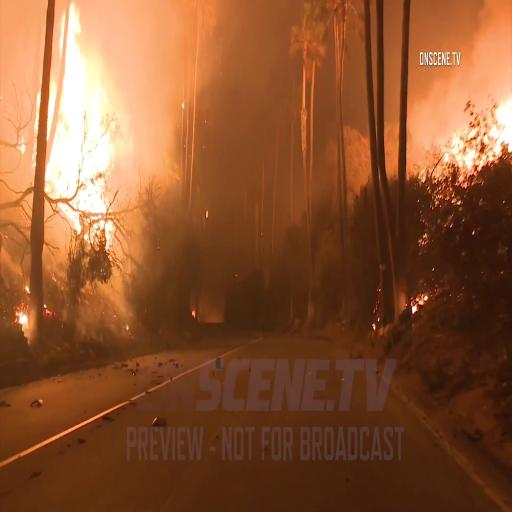fire: (36, 5, 114, 227)
